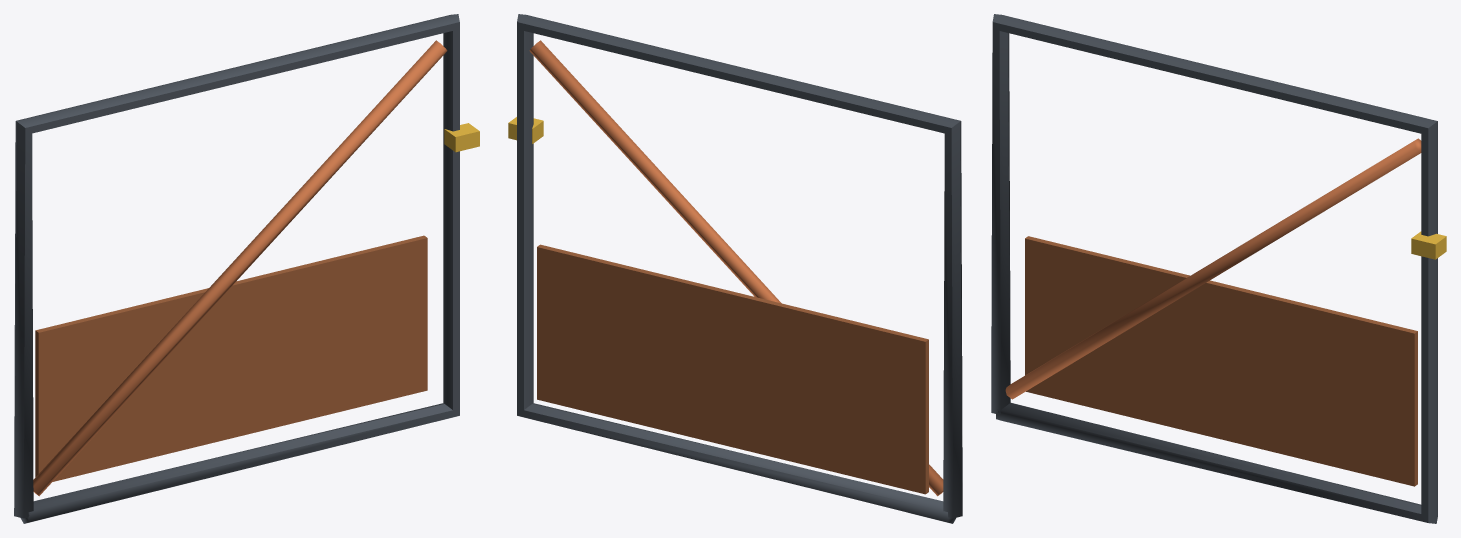
File: fence-pipe-gate.lod1.glb
3 views of the same model, side by side, from view 1: azimuth 30°, elevation 25°; view 2: azimuth 150°, elevation 25°; view 3: azimuth 330°, elevation 25° (orthographic).
Visible parts, largest first — view 1: fence-pipe-gate_lod1; view 2: fence-pipe-gate_lod1; view 3: fence-pipe-gate_lod1.
Part boxes in pixels (x1,y1,x2,y2): fence-pipe-gate_lod1: [14, 14, 479, 523]; fence-pipe-gate_lod1: [508, 14, 962, 523]; fence-pipe-gate_lod1: [991, 14, 1446, 523].
Size of the model in its own units: 0.935 by 0.7941 by 0.068.
